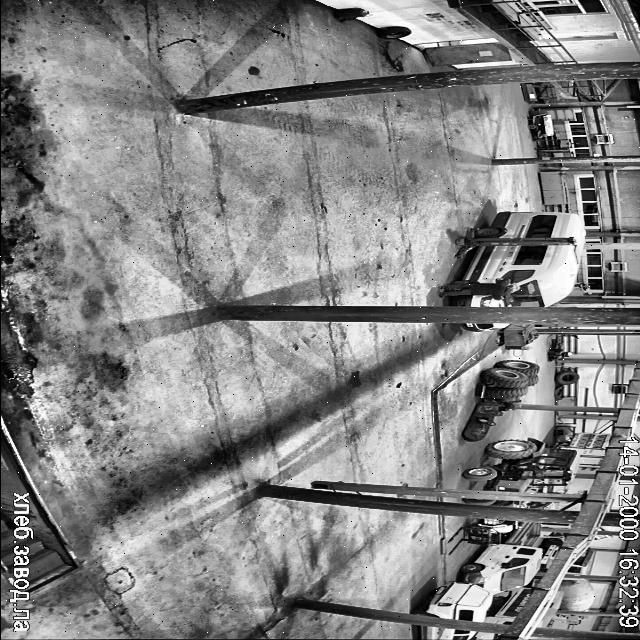class4: (438, 280, 519, 300)
class6: (462, 438, 579, 493), (463, 498, 500, 504), (524, 496, 527, 500), (530, 492, 532, 494)
class7: (452, 212, 585, 307), (461, 522, 540, 593), (413, 581, 492, 620), (484, 588, 532, 624), (535, 592, 562, 627), (420, 626, 475, 640), (567, 548, 595, 574), (540, 536, 563, 564), (462, 323, 508, 332), (476, 632, 500, 640)
tractor: (334, 8, 368, 21)
truck: (455, 228, 578, 257)
